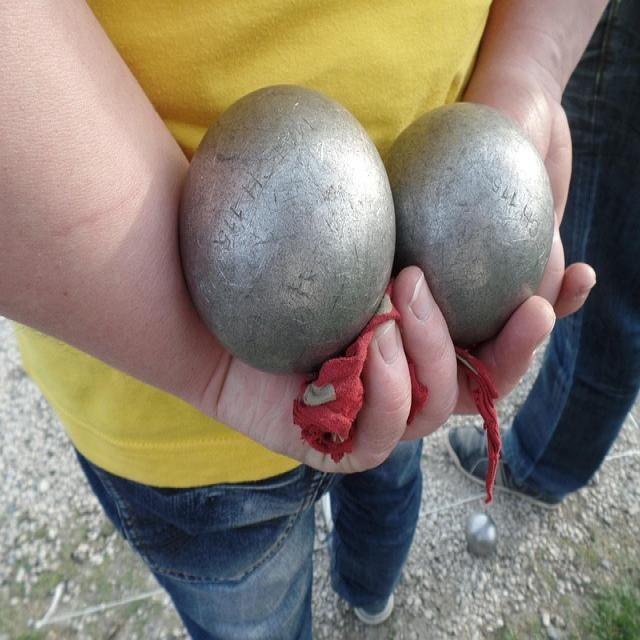petanque: (174, 82, 395, 382), (386, 93, 561, 354)
